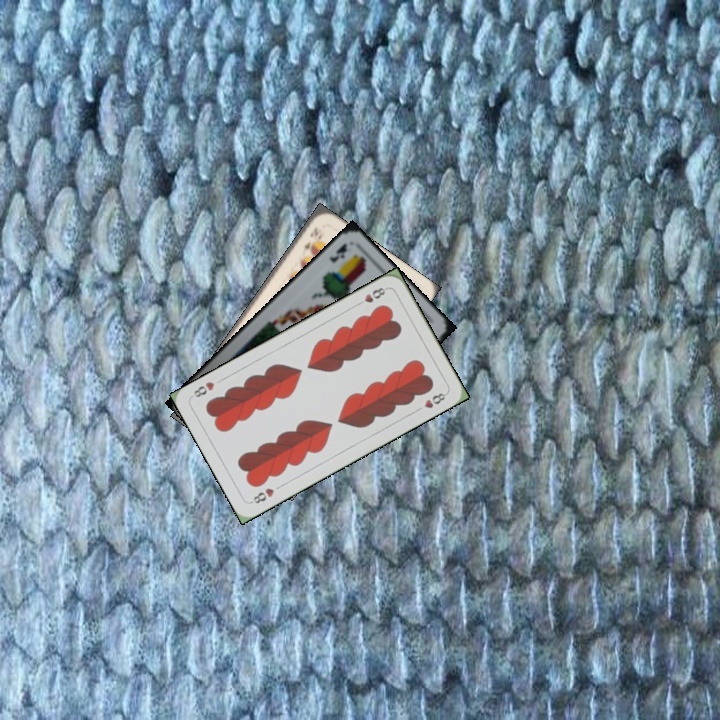E10: (297, 222, 324, 258)
EK: (325, 239, 349, 265)
H8: (353, 283, 390, 309), (247, 484, 277, 506)
